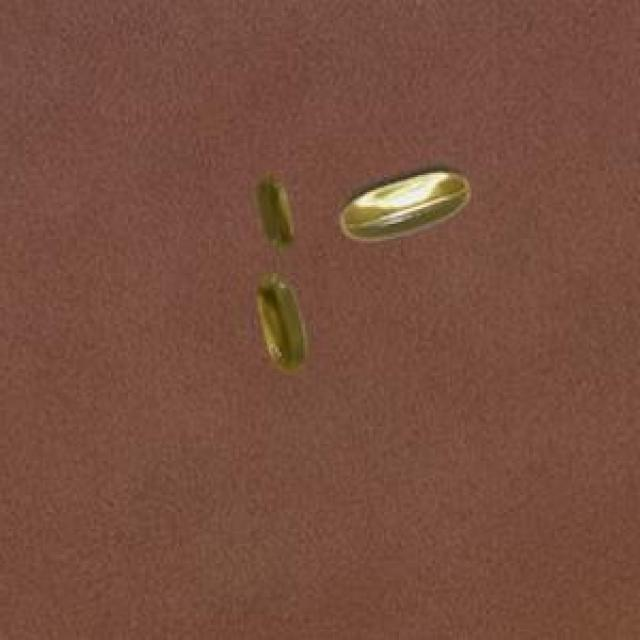Fish_Oil: (329, 154, 481, 253), (239, 270, 314, 380), (251, 172, 303, 248)
